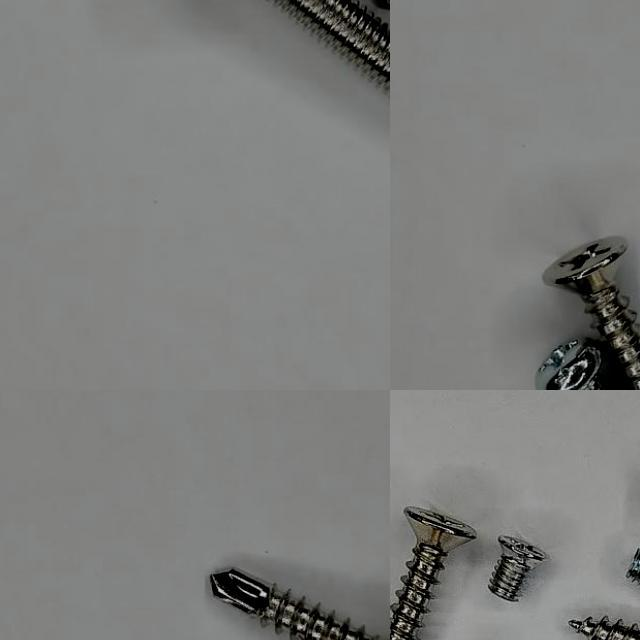Screw: (544, 238, 640, 390), (211, 569, 390, 640), (390, 506, 477, 640), (273, 0, 390, 93), (489, 535, 549, 601), (538, 342, 617, 390)
